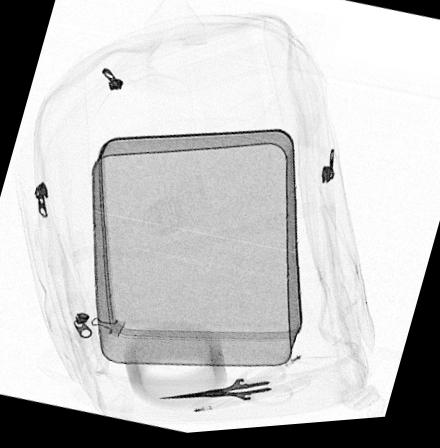Scissors: (154, 364, 300, 413)
